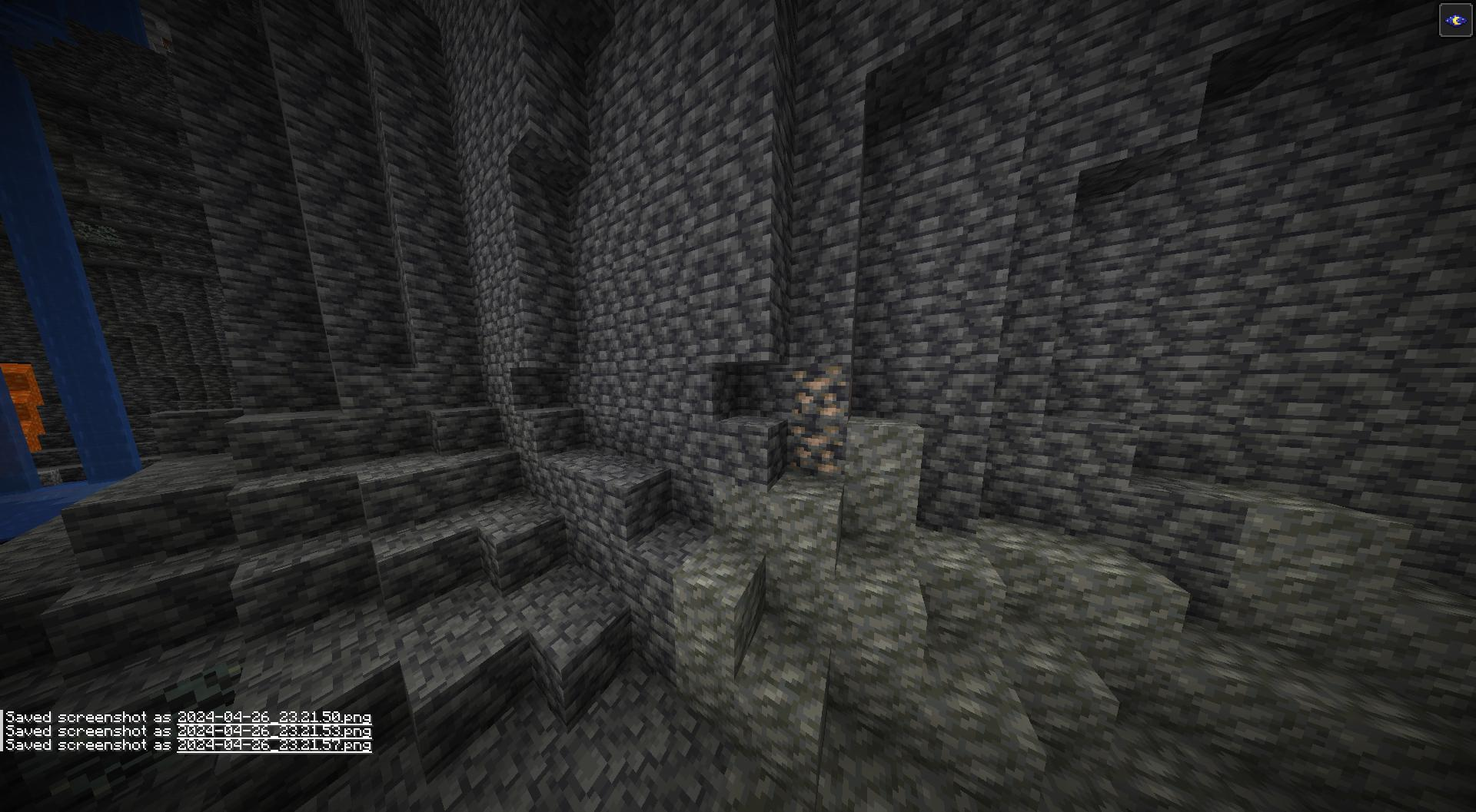iron ore: (787, 417, 843, 482), (784, 364, 849, 418)
